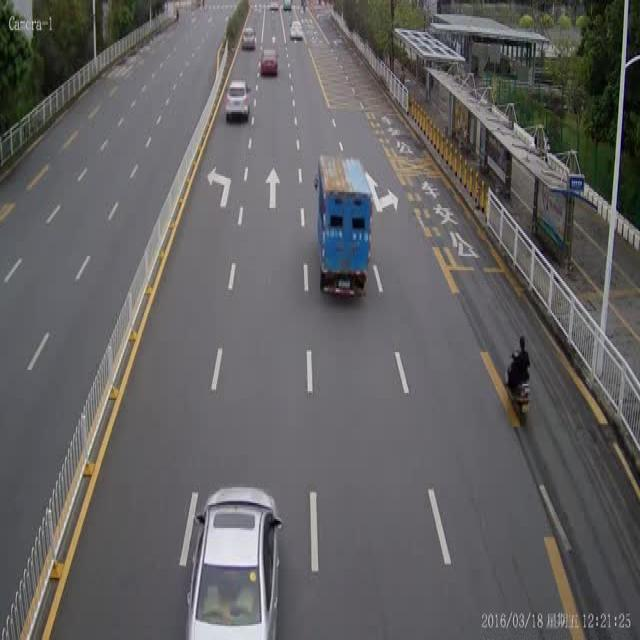Car: (182, 469, 290, 640), (221, 80, 259, 128), (257, 44, 284, 80), (286, 16, 308, 48), (237, 22, 259, 50)
Motorcycle: (499, 324, 536, 439)
Truck: (312, 148, 377, 313)
